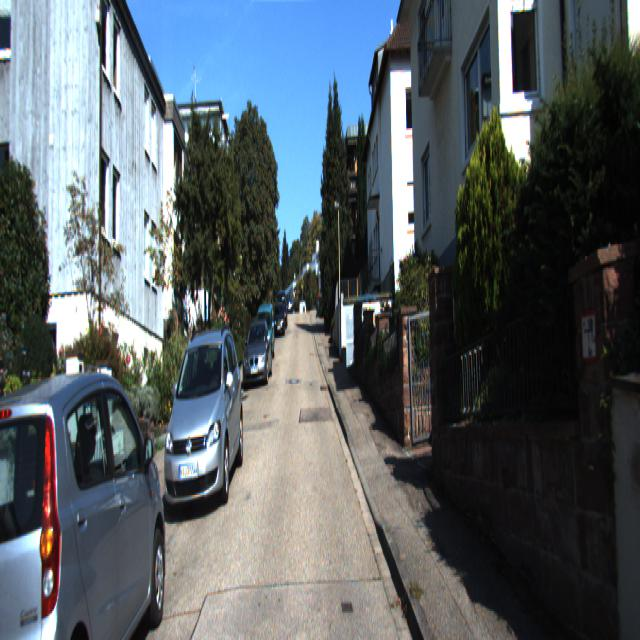Car: (0, 336, 171, 638), (159, 318, 246, 511), (242, 320, 273, 390), (254, 301, 276, 363), (274, 305, 286, 337)
